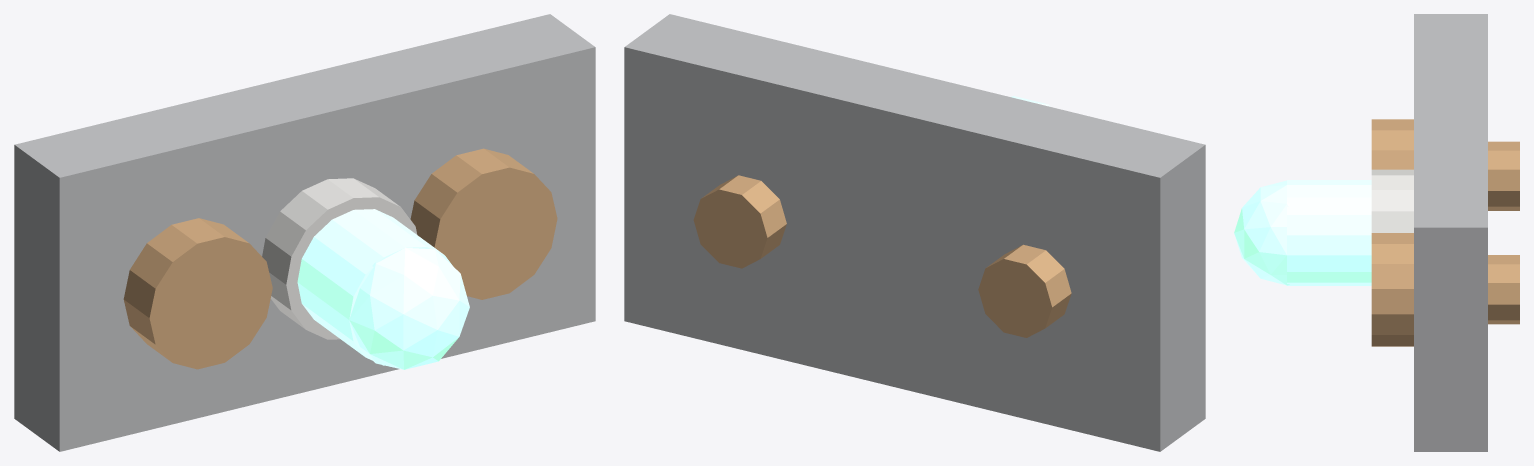
File: snap_led_green.glb
3 renders of one model, left to right at view 1: azimuth 30°, elevation 25°; view 2: azimuth 150°, elevation 25°; view 3: azimuth 270°, elevation 25°, orthographic. The views are drawn at different scales.
Parts seen in each view (by area): view 1: plastic_gray, copper, led_green, white_plastic; view 2: plastic_gray, copper; view 3: plastic_gray, led_green, copper, white_plastic.
Boxes of the visible parts, x1,y1,x2,y2 form: plastic_gray: [14, 14, 595, 451]; copper: [123, 148, 557, 369]; led_green: [297, 209, 469, 369]; white_plastic: [262, 178, 417, 339]; plastic_gray: [624, 14, 1205, 451]; copper: [693, 175, 1071, 337]; plastic_gray: [1414, 14, 1487, 451]; led_green: [1234, 180, 1371, 285]; copper: [1371, 119, 1519, 346]; white_plastic: [1371, 169, 1413, 232].
Bounding box in the file's own units: 0.0478 × 0.0234 × 0.027.
